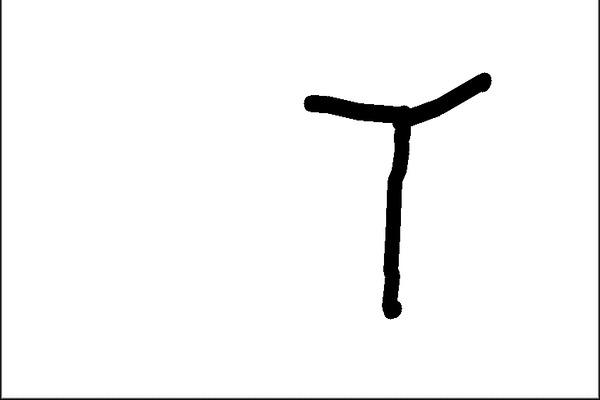T: (302, 70, 494, 322)
